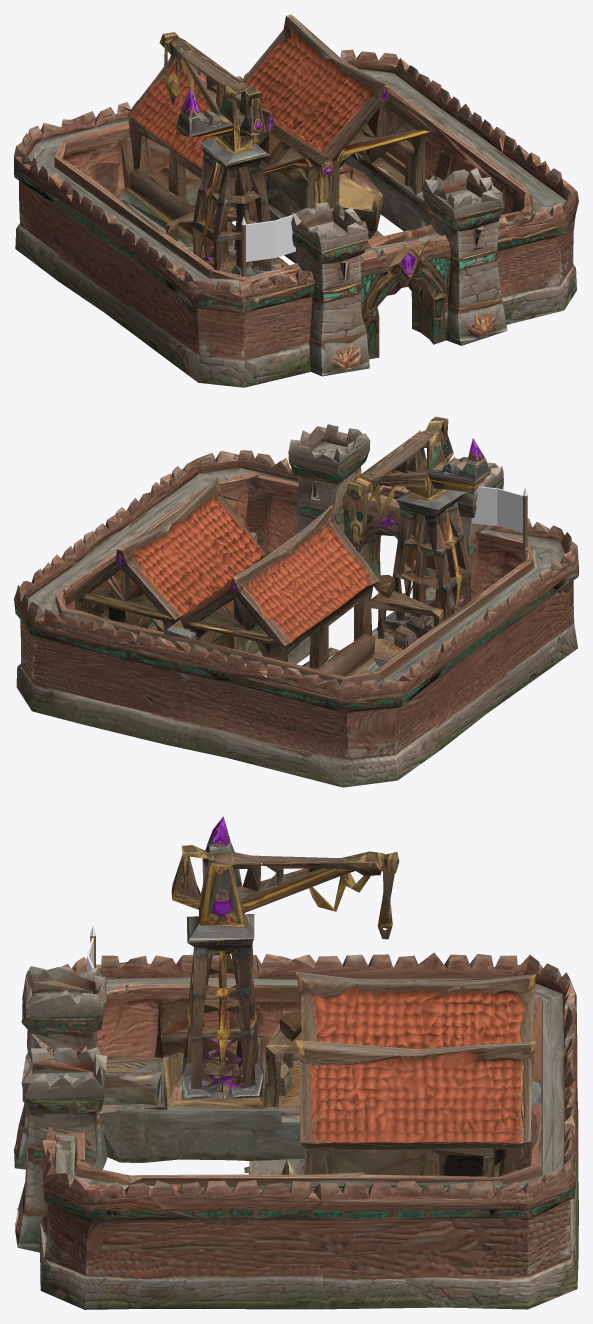
3 renders of one model, top to bottom at view 1: azimuth 30°, elevation 25°; view 2: azimuth 150°, elevation 25°; view 3: azimuth 270°, elevation 25°, orthographic. The views are drawn at different scales.
Parts seen in each view (by area): view 1: tide_arsenal, Team_banner; view 2: tide_arsenal, Team_banner; view 3: tide_arsenal.
Boxes of the visible parts, bbox=[...] form: tide_arsenal: bbox=[14, 14, 578, 387]; Team_banner: bbox=[241, 214, 295, 276]; tide_arsenal: bbox=[14, 416, 578, 787]; Team_banner: bbox=[471, 486, 527, 562]; tide_arsenal: bbox=[14, 816, 578, 1309].
Size of the model in its own units: 1.85 by 1.15 by 1.89.
3 materials, 1 textured.
